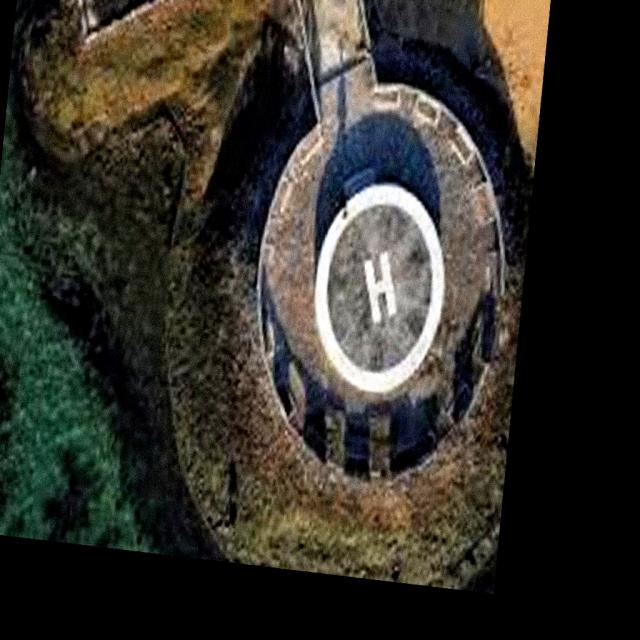helipad: (310, 182, 447, 394)
